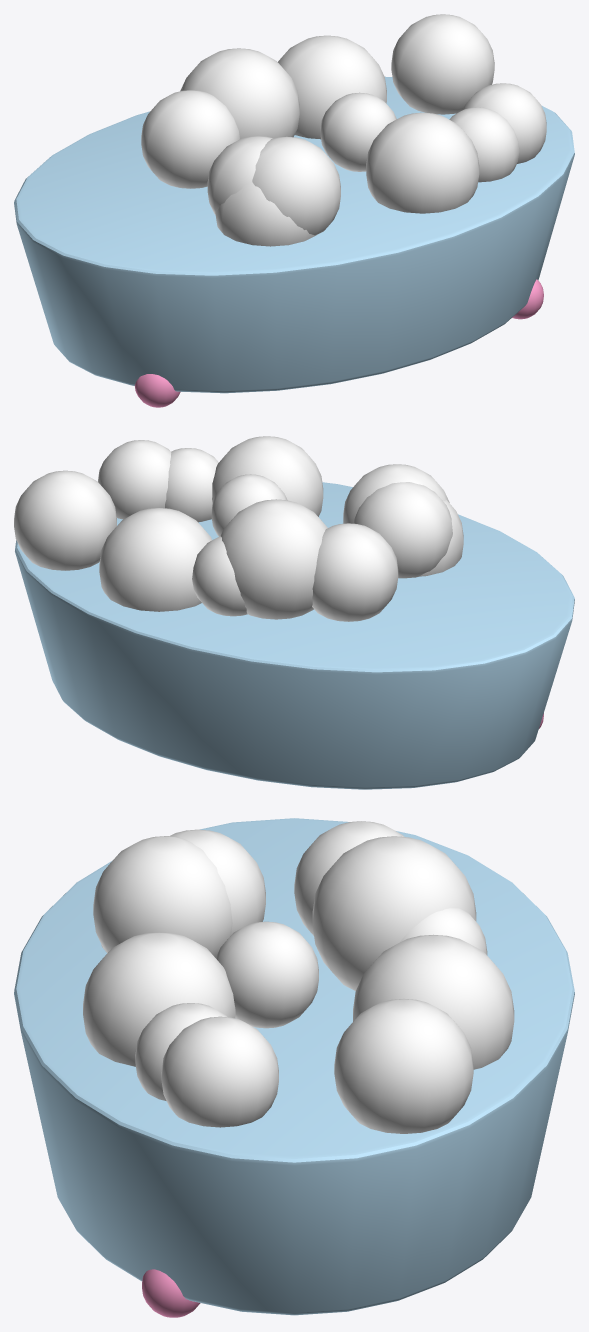
File: object-bubble-tub.glb
3 renders of one model, top to bottom at view 1: azimuth 30°, elevation 25°; view 2: azimuth 150°, elevation 25°; view 3: azimuth 270°, elevation 25°, orthographic. The views are drawn at different scales.
Visible parts, largest first — view 1: Node_0-mesh, part-foam-mesh; view 2: Node_0-mesh, part-foam-mesh; view 3: Node_0-mesh, part-foam-mesh.
Boxes of the visible parts, <box> form: Node_0-mesh: <box>14,76,574,407</box>; part-foam-mesh: <box>141,14,546,246</box>; Node_0-mesh: <box>15,482,574,789</box>; part-foam-mesh: <box>14,436,463,621</box>; Node_0-mesh: <box>14,818,574,1317</box>; part-foam-mesh: <box>83,821,514,1133</box>.
Bounding box in the file's own units: 3.64 × 1.68 × 2.51.
